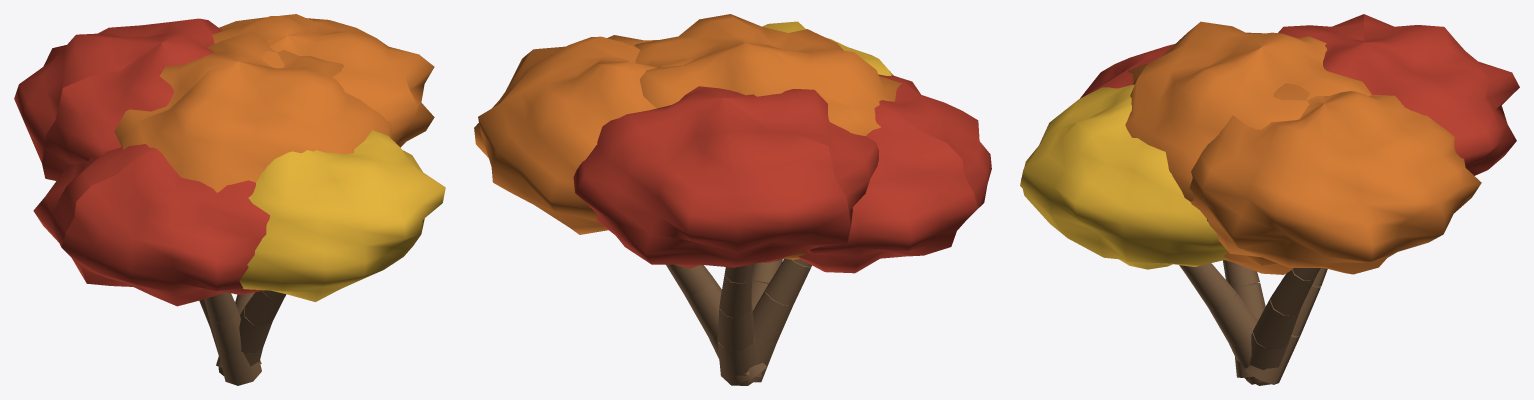
Rendered from perzsafa-bokorfa-osz.glb.
3 views of the same model, side by side, from view 1: azimuth 30°, elevation 25°; view 2: azimuth 150°, elevation 25°; view 3: azimuth 270°, elevation 25° (orthographic). The views are drawn at different scales.
Visible parts, largest first — view 1: korona-1, kozeptomeg, korona-3, korona-4, korona-2, to-1-1, to-3-3, to-1-2, to-3-2, to-1-3; view 2: korona-4, korona-2, korona-1, kozeptomeg, to-1-2, to-1-3, to-4-2, to-2-2, to-4-1, to-4-3, to-2-3, korona-3 (+2 smaller); view 3: korona-2, korona-3, kozeptomeg, korona-4, to-3-2, to-2-2, korona-1, to-3-3, to-2-3, to-2-1, to-4-1, to-1-3 (+3 smaller).
Part boxes in pixels (x1,y1,x2,y2): korona-1: [33, 144, 269, 306]; kozeptomeg: [114, 31, 394, 192]; korona-3: [239, 130, 445, 301]; korona-4: [14, 18, 221, 180]; korona-2: [212, 14, 434, 147]; to-1-1: [218, 350, 261, 385]; to-3-3: [244, 291, 285, 326]; to-1-2: [209, 304, 241, 353]; to-3-2: [239, 307, 272, 353]; to-1-3: [204, 292, 237, 323]; korona-4: [573, 86, 879, 268]; korona-2: [474, 35, 693, 234]; korona-1: [798, 74, 991, 273]; kozeptomeg: [634, 14, 902, 259]; to-1-2: [753, 288, 792, 343]; to-1-3: [765, 259, 811, 305]; to-4-2: [717, 302, 754, 350]; to-2-2: [684, 276, 721, 337]; to-4-1: [717, 332, 757, 385]; to-4-3: [719, 269, 752, 317]; to-2-3: [666, 264, 711, 295]; korona-3: [762, 21, 893, 75]; korona-2: [1189, 83, 1481, 274]; korona-3: [1020, 84, 1227, 269]; kozeptomeg: [1125, 21, 1371, 274]; korona-4: [1278, 14, 1519, 175]; to-3-2: [1208, 293, 1257, 346]; to-2-2: [1252, 299, 1301, 349]; korona-1: [1080, 44, 1174, 98]; to-3-3: [1186, 263, 1236, 311]; to-2-3: [1270, 269, 1316, 315]; to-2-1: [1244, 332, 1289, 385]; to-4-1: [1245, 335, 1300, 384]; to-1-3: [1222, 260, 1259, 287].
Size of the model in its own units: 6.06 by 4.58 by 6.21.
